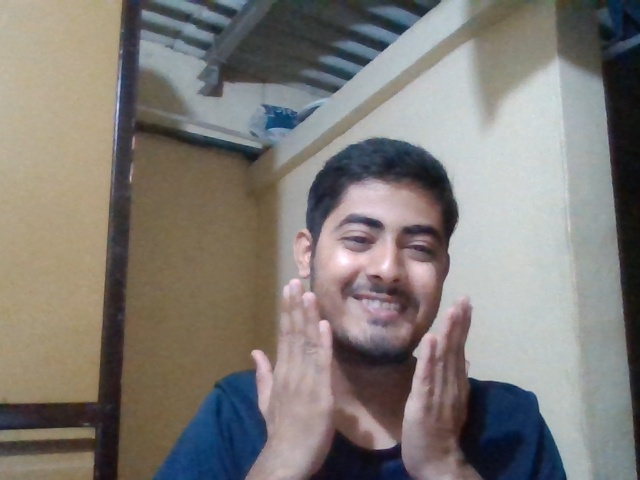ThankYou: (250, 279, 474, 459)
